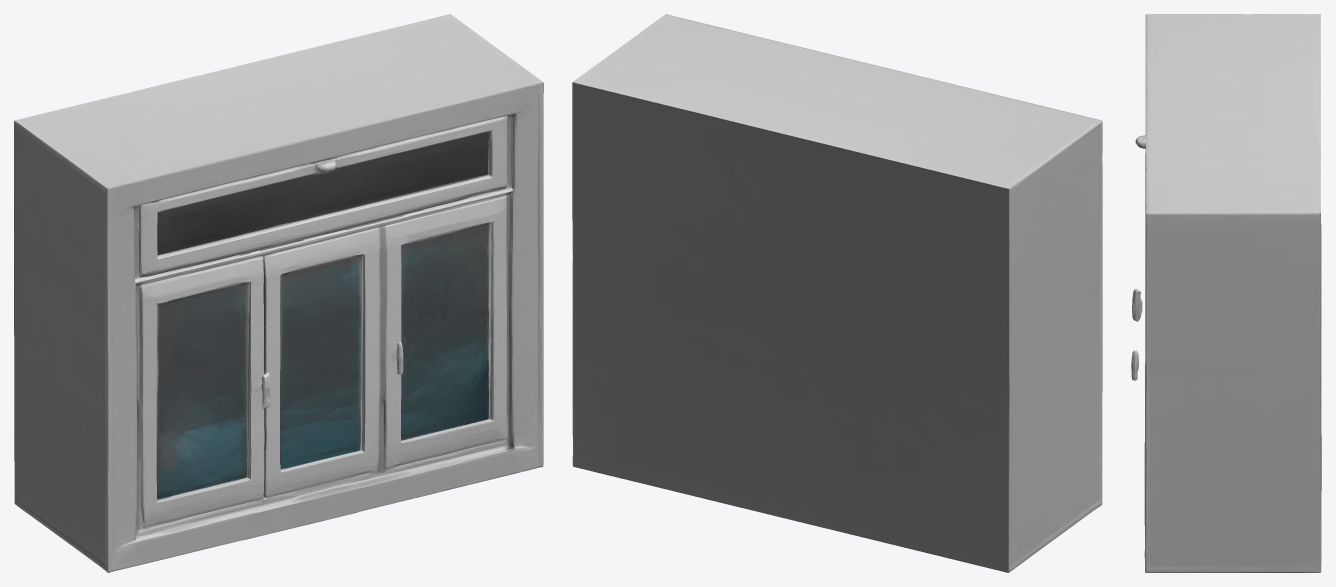
3 views of the same model, side by side, from view 1: azimuth 30°, elevation 25°; view 2: azimuth 150°, elevation 25°; view 3: azimuth 270°, elevation 25° (orthographic). The views are drawn at different scales.
Visible parts, largest first — view 1: world; view 2: world; view 3: world.
Boxes of the visible parts, <box> form: world: <box>14,14,543,572</box>; world: <box>572,14,1102,572</box>; world: <box>1131,14,1321,572</box>.
Size of the model in its own units: 1 by 0.8418 by 0.4026.
1 material, 1 textured.
